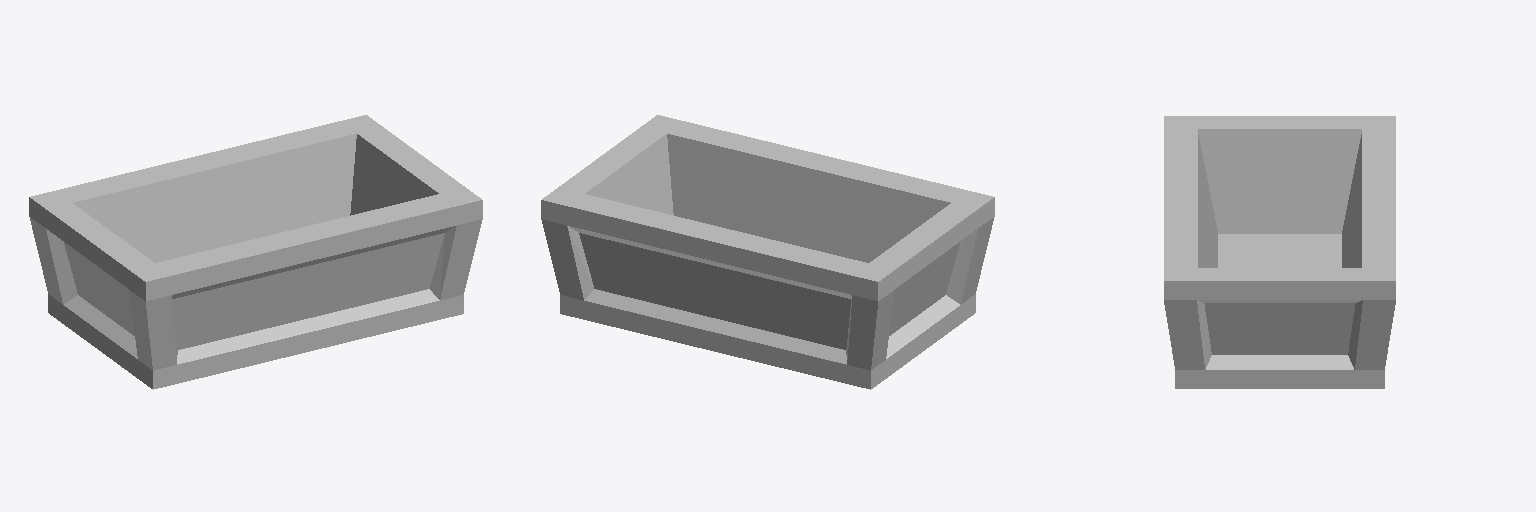
File: chest_rare.obj
The picture shows the model from 3 angles: view 1: azimuth 30°, elevation 25°; view 2: azimuth 150°, elevation 25°; view 3: azimuth 270°, elevation 25°; orthographic projection.
Parts seen in each view (by area): view 1: chest_rare_Cube.007; view 2: chest_rare_Cube.007; view 3: chest_rare_Cube.007.
Part boxes in pixels (x1,y1,x2,y2): chest_rare_Cube.007: (29, 115, 482, 389); chest_rare_Cube.007: (541, 115, 994, 389); chest_rare_Cube.007: (1164, 116, 1395, 388).
Bounding box in the file's own units: 1.84 × 0.6007 × 1.1.